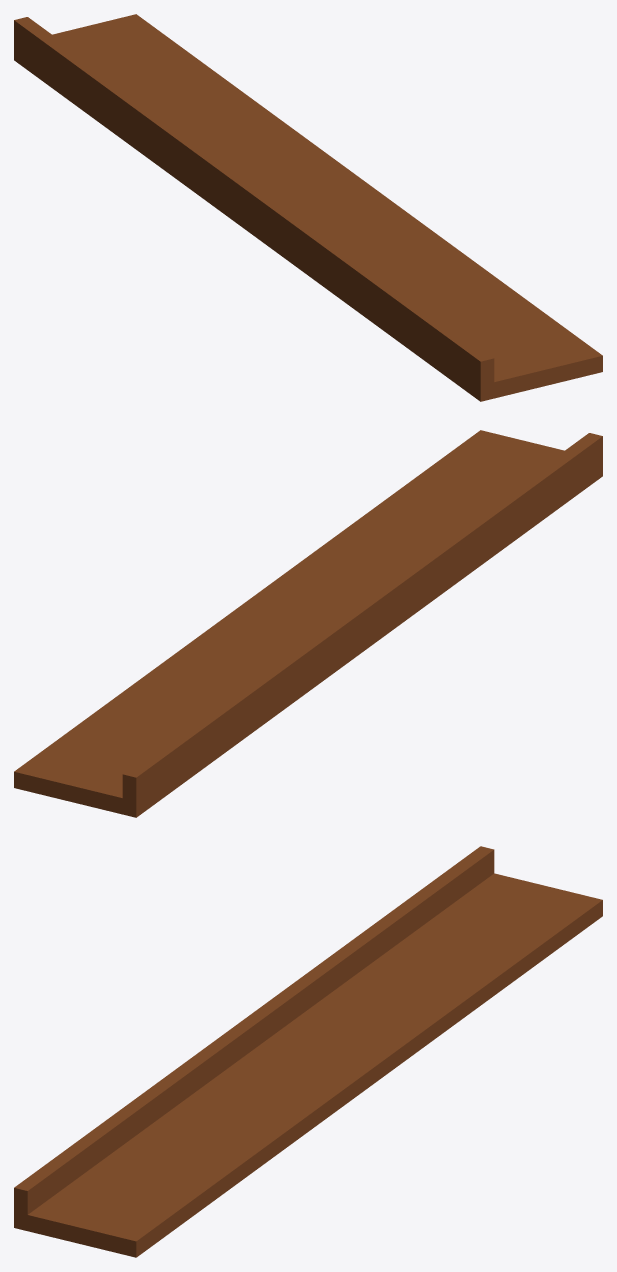
Rendered from masa.fbx.
3 views of the same model, one above another, from view 1: azimuth 30°, elevation 25°; view 2: azimuth 150°, elevation 25°; view 3: azimuth 330°, elevation 25° (orthographic).
Parts seen in each view (by area): view 1: Plane; view 2: Plane; view 3: Plane.
Part boxes in pixels (x1=…): Plane: x1=14, y1=14, x2=602, y2=401; Plane: x1=14, y1=430, x2=602, y2=817; Plane: x1=14, y1=846, x2=602, y2=1257.
Bounding box in the file's own units: 127 × 39.94 × 841.
